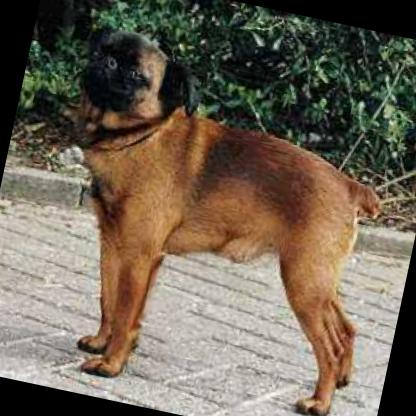Brabancon_griffon: (15, 15, 416, 416)
